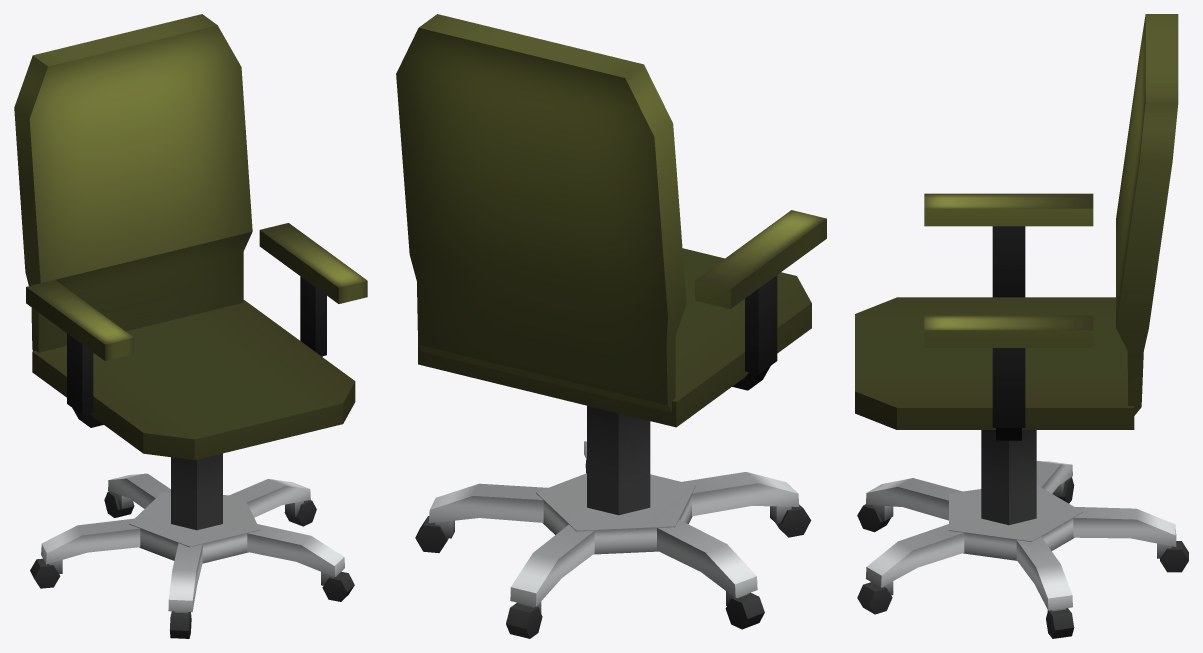
The model's file is Chair_Office_Olive.fbx.
The picture shows the model from 3 angles, left to right: view 1: azimuth 30°, elevation 25°; view 2: azimuth 150°, elevation 25°; view 3: azimuth 270°, elevation 25°; orthographic projection. The views are drawn at different scales.
Visible parts, largest first — view 1: Chair_Office_Olive; view 2: Chair_Office_Olive; view 3: Chair_Office_Olive.
Part boxes in pixels (x1,y1,x2,y2): Chair_Office_Olive: [14, 14, 367, 638]; Chair_Office_Olive: [396, 14, 826, 638]; Chair_Office_Olive: [855, 14, 1188, 638].
Size of the model in its own units: 69.71 by 112 by 66.73.
